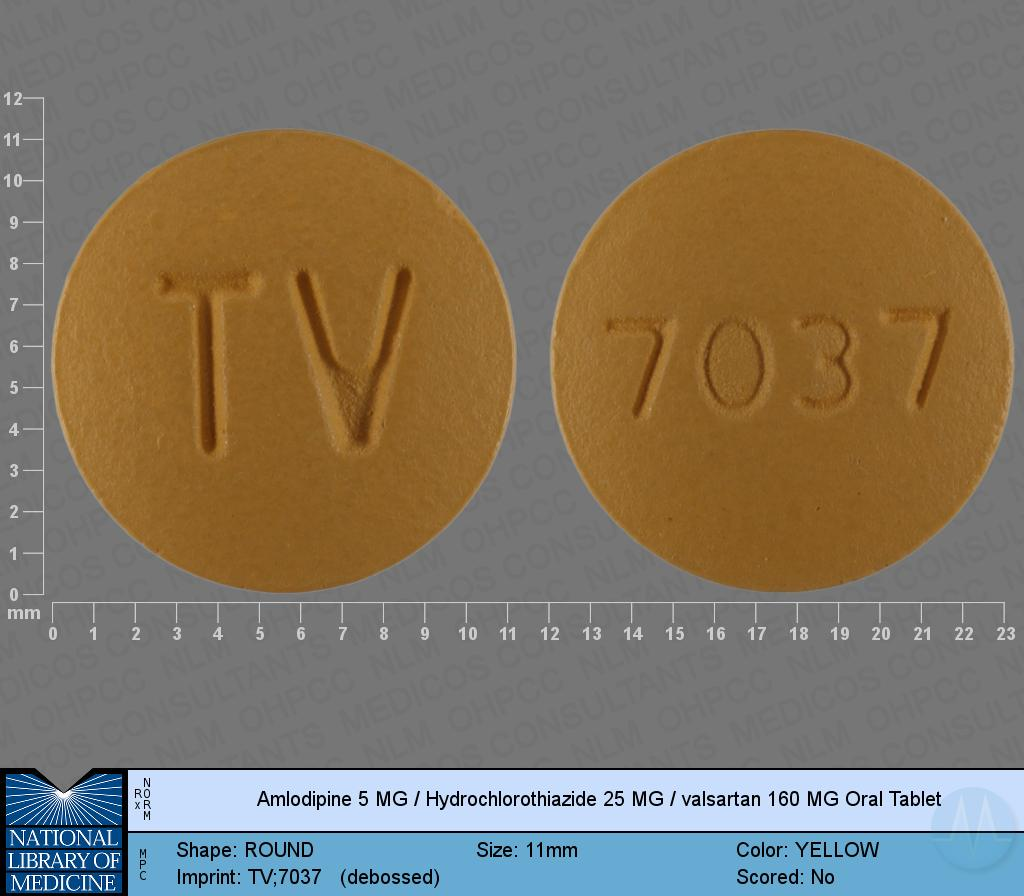Pill: (542, 120, 1024, 598), (45, 123, 527, 598)
